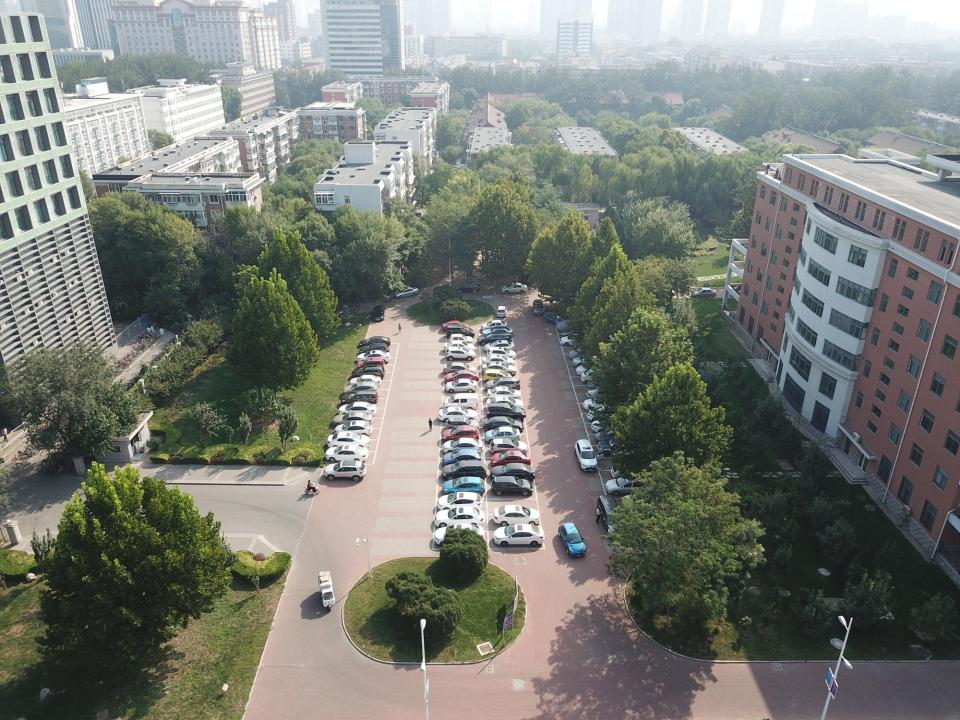car: (493, 523, 545, 546), (434, 524, 485, 546), (558, 522, 588, 558), (493, 505, 542, 526), (605, 475, 654, 496), (435, 507, 486, 527), (574, 439, 605, 471), (442, 459, 488, 480), (491, 475, 534, 497), (323, 460, 367, 481), (490, 463, 535, 482), (442, 476, 485, 495), (438, 492, 483, 510), (325, 444, 370, 462), (327, 432, 372, 450), (597, 436, 639, 454), (442, 437, 484, 454), (483, 416, 524, 433), (437, 406, 479, 422), (332, 412, 374, 428), (337, 402, 378, 418), (491, 449, 532, 465), (489, 438, 530, 454), (442, 448, 482, 464), (334, 420, 374, 436), (484, 426, 521, 443), (340, 390, 379, 406), (586, 405, 622, 421), (442, 426, 480, 441), (590, 418, 630, 432), (351, 365, 385, 381), (481, 361, 517, 376), (446, 416, 480, 431), (356, 349, 390, 364), (444, 370, 480, 384), (485, 377, 521, 391), (445, 346, 476, 362), (445, 378, 478, 393), (486, 396, 524, 409), (343, 381, 378, 395), (487, 386, 522, 400), (595, 428, 630, 442), (586, 385, 621, 399), (582, 397, 618, 410), (483, 369, 513, 384), (560, 333, 592, 347), (348, 374, 382, 387), (576, 362, 607, 376), (443, 362, 477, 374), (481, 354, 515, 366), (572, 354, 603, 367), (486, 347, 516, 360), (359, 342, 391, 354), (444, 340, 476, 352), (482, 326, 514, 338), (454, 281, 482, 294), (483, 340, 516, 351), (356, 358, 386, 370), (359, 336, 391, 347), (569, 346, 594, 360), (542, 311, 565, 326), (587, 379, 618, 390), (394, 286, 420, 299), (556, 319, 584, 331), (481, 319, 508, 331), (448, 333, 474, 345), (442, 320, 470, 331), (500, 283, 528, 294), (690, 287, 717, 298), (560, 328, 588, 338), (371, 304, 386, 321), (532, 299, 545, 316), (495, 305, 508, 318)
van: (596, 495, 626, 537), (486, 402, 526, 421), (442, 392, 480, 409), (580, 368, 614, 384), (477, 331, 513, 346), (446, 323, 476, 338)
